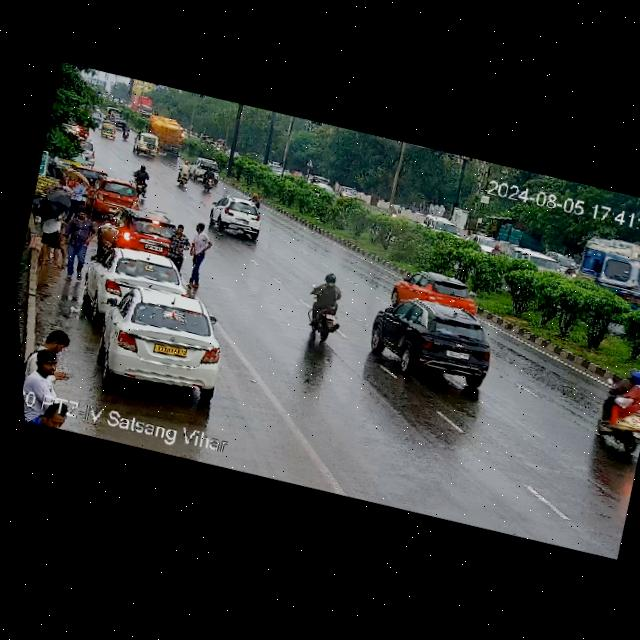car: (83, 274, 239, 407), (358, 285, 513, 397), (77, 239, 194, 328), (388, 253, 484, 327), (104, 204, 199, 268), (205, 192, 274, 246), (85, 170, 144, 219), (416, 206, 466, 243), (62, 134, 100, 165), (130, 128, 162, 159), (189, 153, 223, 180), (96, 116, 122, 140), (335, 183, 361, 203)
motorcycle: (583, 363, 640, 455), (293, 268, 355, 346), (128, 164, 155, 199), (171, 160, 197, 190), (199, 165, 219, 193)
person: (19, 318, 88, 419), (48, 204, 103, 287), (178, 217, 224, 294), (163, 216, 198, 268)
truck: (559, 224, 640, 312), (142, 113, 188, 160), (126, 92, 156, 118)
